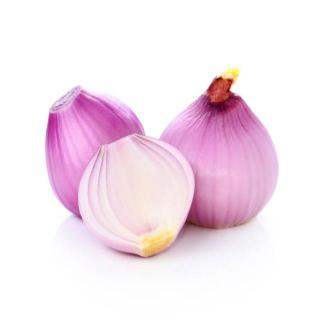Bawang Merah: (42, 67, 282, 261)
